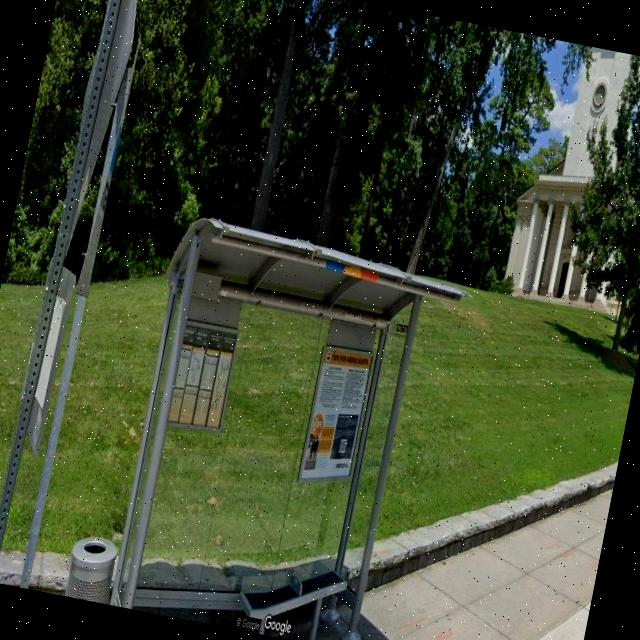seating: (233, 542, 354, 640)
shelter: (99, 207, 478, 640)
trash_can: (61, 534, 121, 605)
